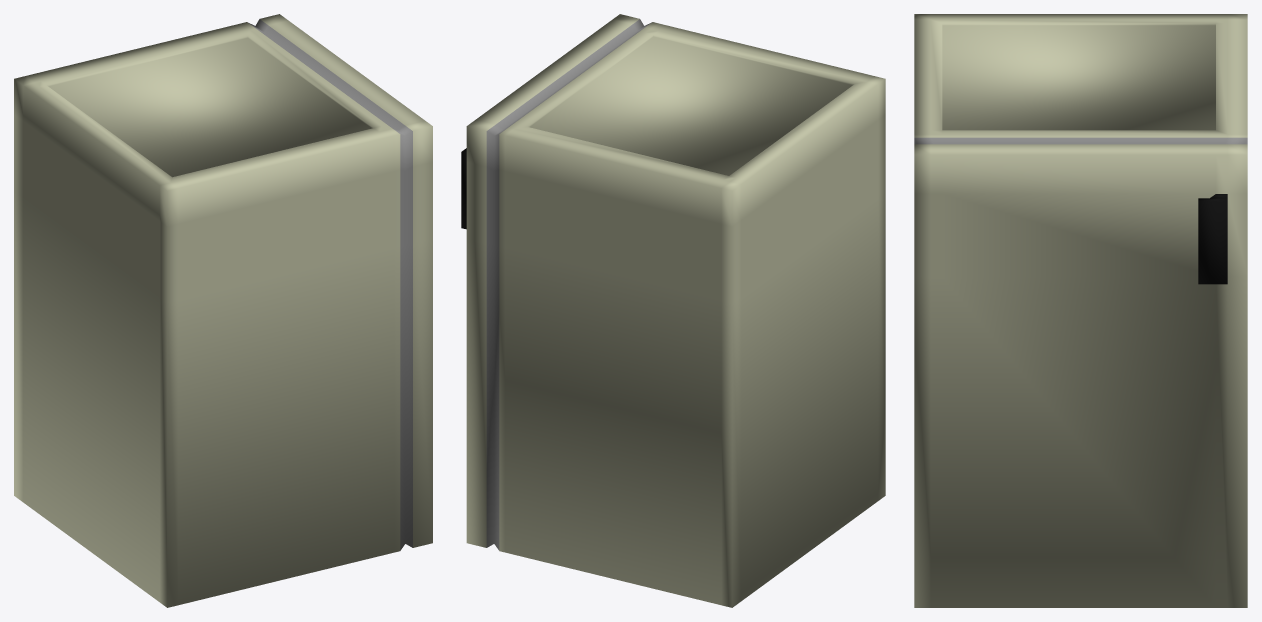
File: fridge.fbx
3 renders of one model, left to right at view 1: azimuth 30°, elevation 25°; view 2: azimuth 150°, elevation 25°; view 3: azimuth 270°, elevation 25°, orthographic. The views are drawn at different scales.
Visible parts, largest first — view 1: Cube; view 2: Cube; view 3: Cube.
Part boxes in pixels (<box>): Cube: <box>14,14,432,607</box>; Cube: <box>461,14,885,607</box>; Cube: <box>914,14,1247,607</box>.
Size of the model in its own units: 211 by 305 by 200.
